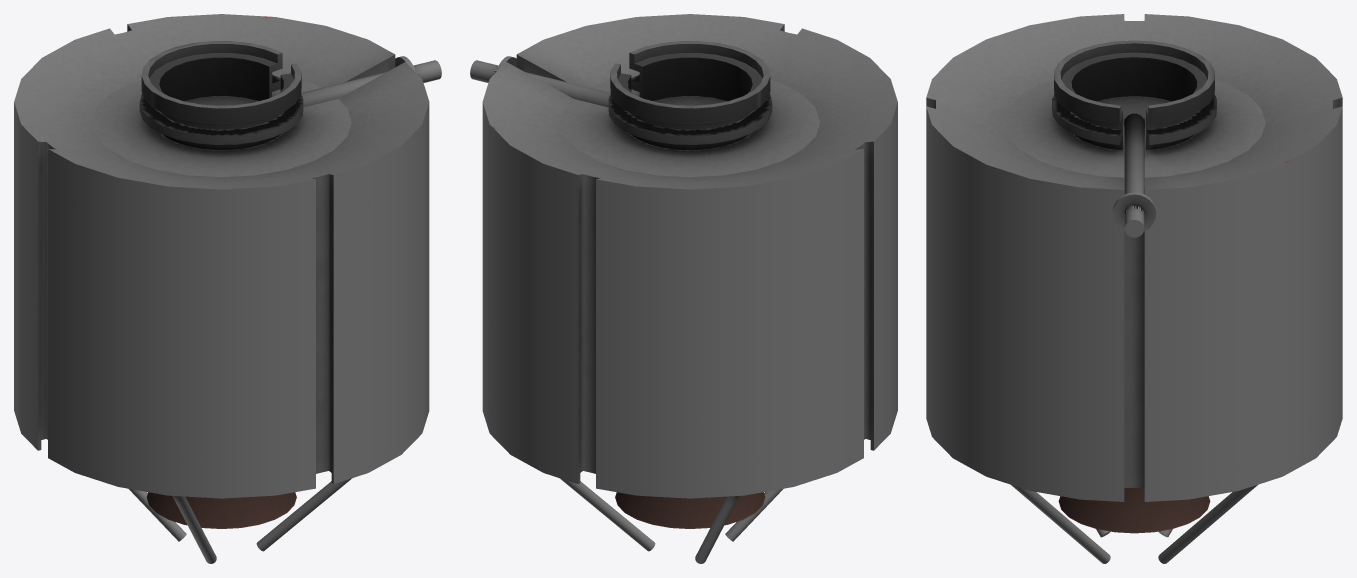
File: EarlyBird_closed.fbx
3 renders of one model, left to right at view 1: azimuth 30°, elevation 25°; view 2: azimuth 150°, elevation 25°; view 3: azimuth 270°, elevation 25°, orthographic.
Parts seen in each view (by area): view 1: BodyShell, TopOuter, SpinTop, TopInner, TopOuter.001, EngineNozzle, Antenna, AntennaBase.002, AntennaBase.003, AntennaBase.004; view 2: BodyShell, TopOuter, SpinTop, TopInner, TopOuter.001, EngineNozzle, Antenna, AntennaBase.001, AntennaBase.004, AntennaBase.003; view 3: BodyShell, TopOuter, SpinTop, TopInner, TopOuter.001, EngineNozzle, Antenna, AntennaBase.001, AntennaBase.002.
Boxes of the visible parts, left/top/right/bottom form: BodyShell: left=14, top=102, right=429, bottom=498; TopOuter: left=14, top=14, right=429, bottom=189; SpinTop: left=139, top=41, right=303, bottom=150; TopInner: left=91, top=72, right=351, bottom=177; TopOuter.001: left=38, top=24, right=333, bottom=483; EngineNozzle: left=146, top=492, right=296, bottom=528; Antenna: left=301, top=56, right=441, bottom=107; AntennaBase.002: left=256, top=478, right=351, bottom=551; AntennaBase.003: left=172, top=496, right=216, bottom=563; AntennaBase.004: left=128, top=488, right=186, bottom=541; BodyShell: left=482, top=102, right=897, bottom=498; TopOuter: left=482, top=14, right=897, bottom=189; SpinTop: left=608, top=41, right=772, bottom=150; TopInner: left=560, top=72, right=820, bottom=177; TopOuter.001: left=578, top=24, right=873, bottom=483; EngineNozzle: left=615, top=492, right=765, bottom=528; Antenna: left=470, top=56, right=610, bottom=107; AntennaBase.001: left=560, top=478, right=655, bottom=551; AntennaBase.004: left=695, top=496, right=739, bottom=563; AntennaBase.003: left=725, top=488, right=783, bottom=541; BodyShell: left=926, top=107, right=1342, bottom=501; TopOuter: left=926, top=14, right=1342, bottom=194; SpinTop: left=1052, top=40, right=1216, bottom=150; TopInner: left=1003, top=79, right=1265, bottom=177; TopOuter.001: left=926, top=98, right=1342, bottom=487; EngineNozzle: left=1058, top=488, right=1210, bottom=533; Antenna: left=1113, top=113, right=1155, bottom=237; AntennaBase.001: left=1158, top=485, right=1257, bottom=563; AntennaBase.002: left=1011, top=485, right=1110, bottom=563.
Size of the model in its own units: 48.69 by 55.65 by 44.17.
Materials: 1 (1 with a texture image).
